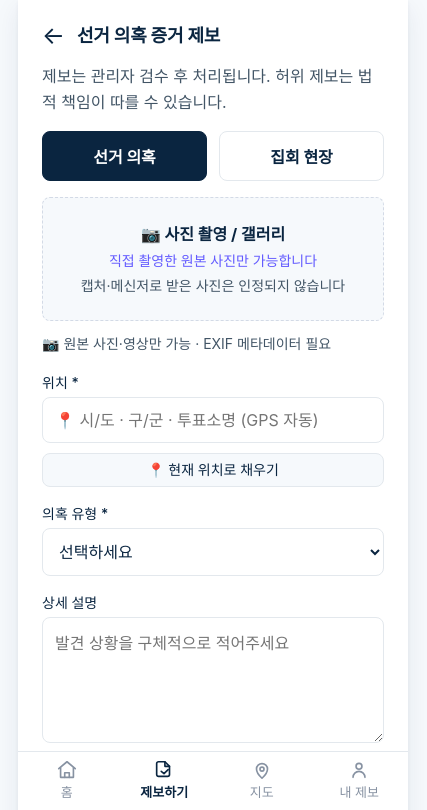
it: ReportForm 제출 › 429 시 잠시 후 재시도 안내를 표시한다
The image size is (427, 810).
Type "관찰한 정황" into the text box labelled "상세 설명" at point(213, 680), box [42,617,384,743]
(page scrolled)
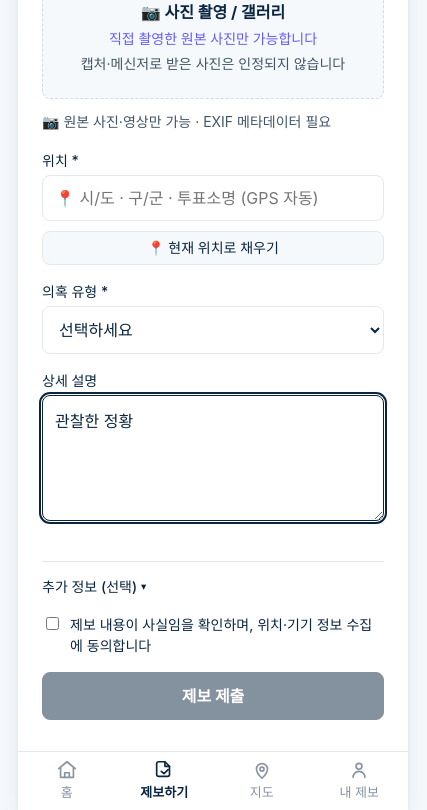
Click the checkbox labelled "제보 내용이 사실임을 확인하며, 위치·기기 정보 수집에 동의합니다" at point(52, 624), box [46,617,59,630]
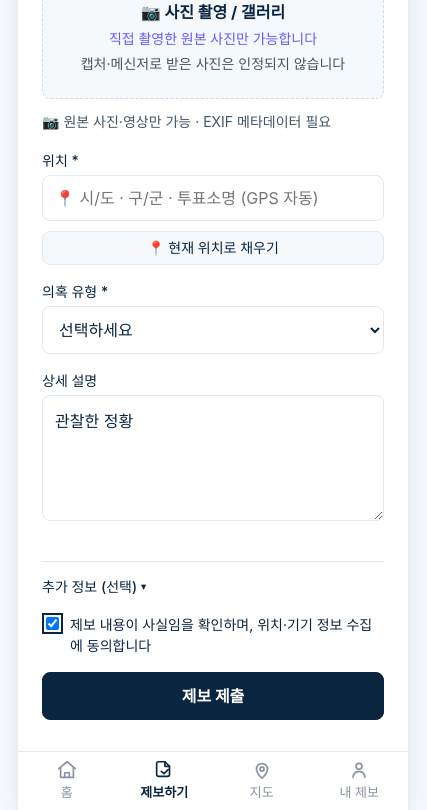
Click the button "제보 제출" at point(213, 696), box [42,672,384,720]
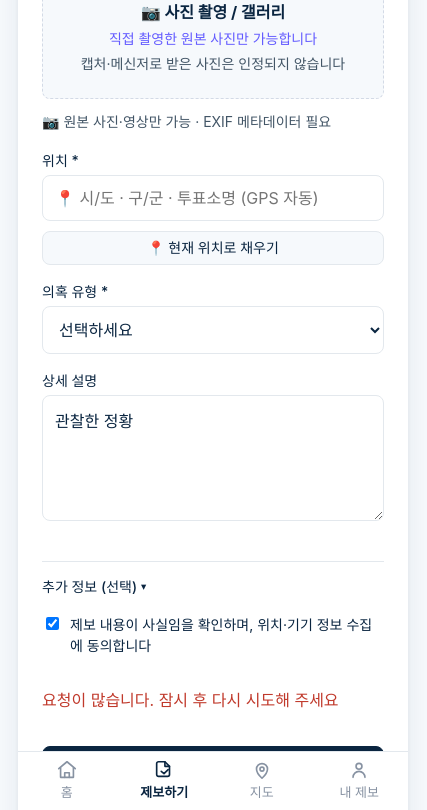
expect the text "요청이 많습니다. 잠시 후 다시 시도해 주세요" is shown: met, box [42,688,384,714]
